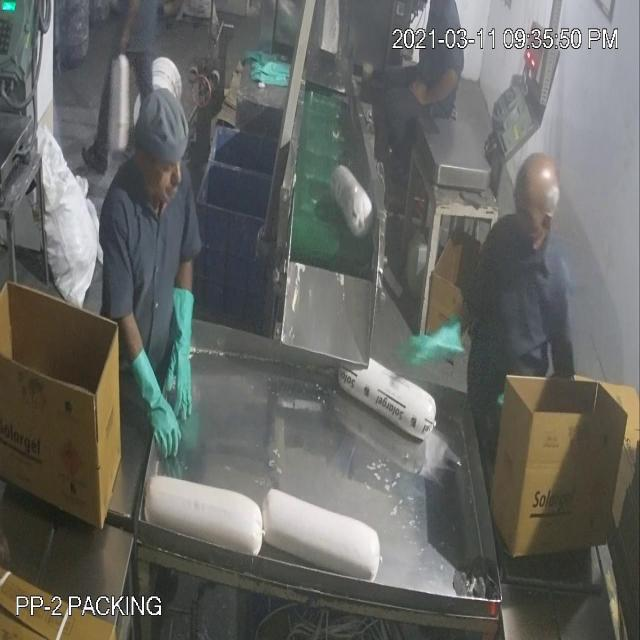gloves: (164, 274, 209, 428), (394, 309, 474, 383), (131, 348, 183, 458)
no-gloves: (408, 58, 466, 126)
